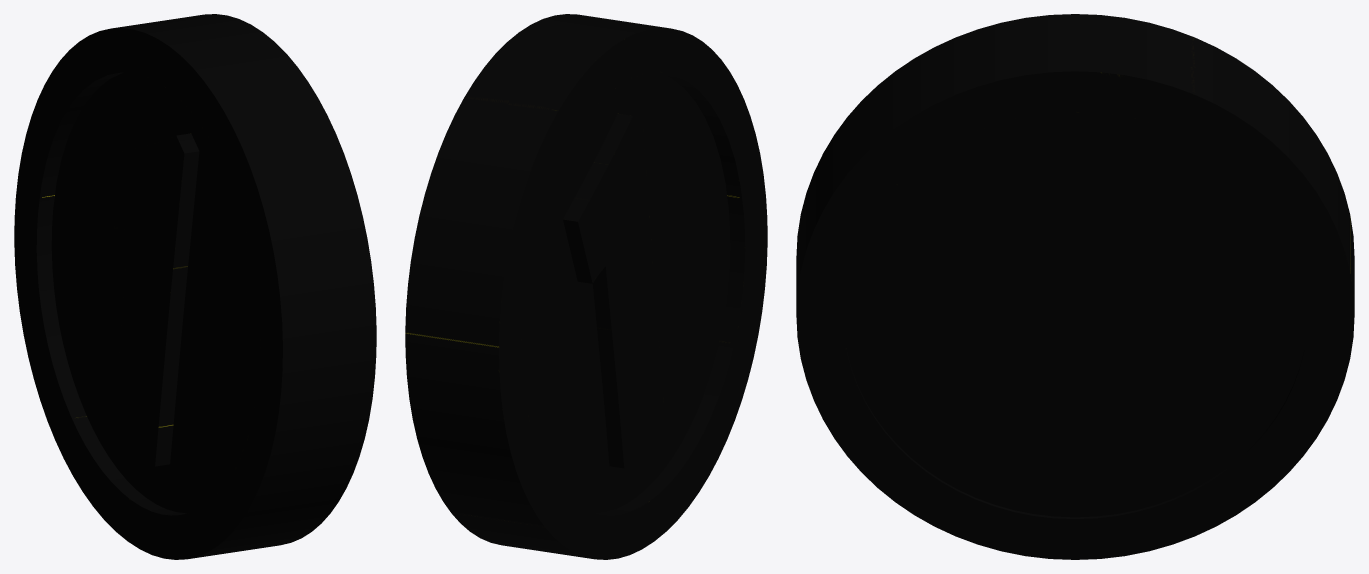
File: Kolikko22.fbx
3 renders of one model, left to right at view 1: azimuth 30°, elevation 25°; view 2: azimuth 150°, elevation 25°; view 3: azimuth 270°, elevation 25°, orthographic. The views are drawn at different scales.
Parts seen in each view (by area): view 1: node_id114, root, node_id45; view 2: node_id114, root, node_id45; view 3: root, node_id114.
Part boxes in pixels (left/top/right/bottom): node_id114: left=14, top=14, right=376, bottom=559; root: left=51, top=72, right=260, bottom=513; node_id45: left=111, top=133, right=199, bottom=466; node_id114: left=405, top=14, right=767, bottom=559; root: left=521, top=72, right=730, bottom=513; node_id45: left=563, top=113, right=666, bottom=468; root: left=843, top=112, right=1307, bottom=517; node_id114: left=796, top=14, right=1354, bottom=559.
Size of the model in its own units: 0.1521 by 0.5304 by 0.5167.
3 materials, 3 textured.
